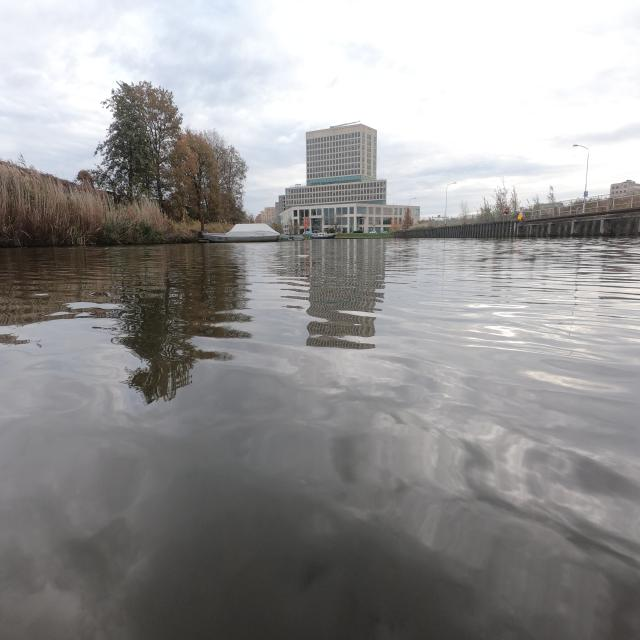boat: (198, 223, 280, 243), (311, 232, 336, 239)
reed: (0, 161, 197, 247), (205, 222, 234, 233)
wall: (397, 205, 640, 239)
water: (0, 239, 640, 640)
